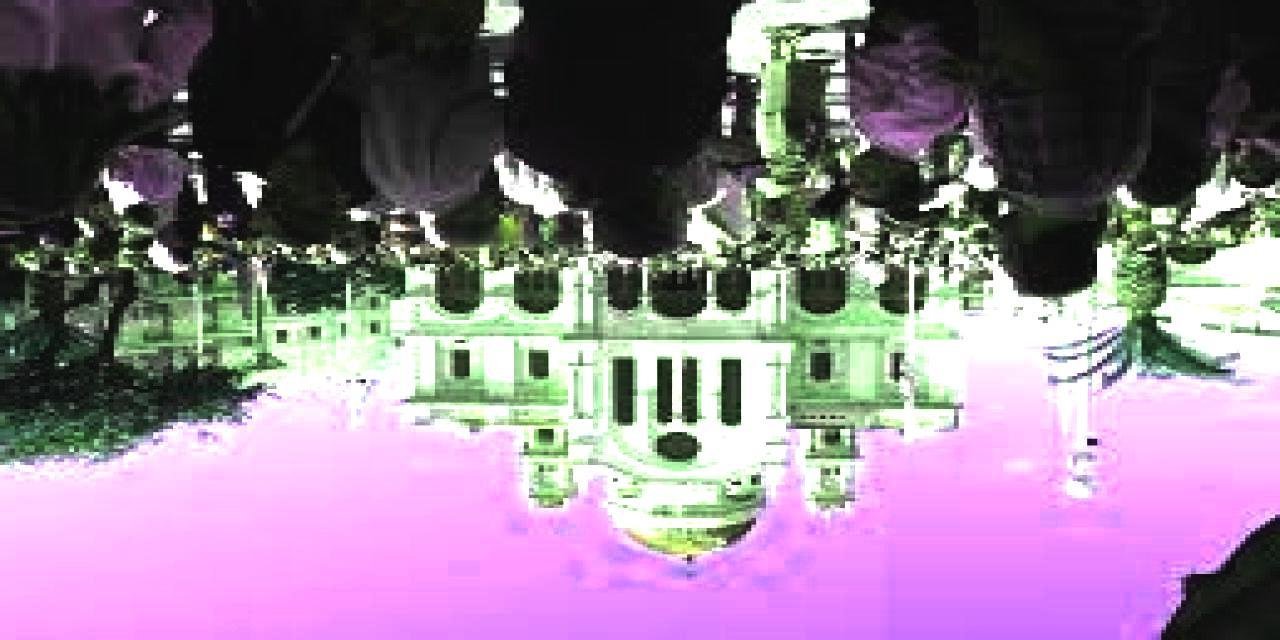Agios Minas: (387, 261, 967, 585)
